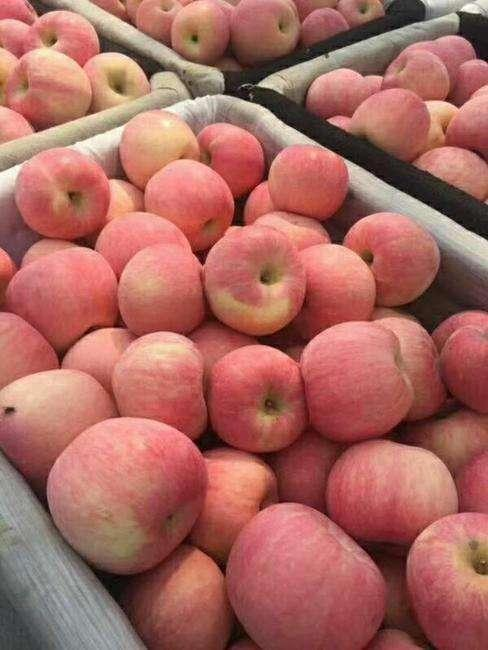apple: (45, 415, 204, 578), (221, 501, 385, 647), (325, 439, 458, 555), (300, 319, 419, 445), (1, 368, 111, 478), (401, 513, 488, 649), (206, 224, 305, 333), (111, 327, 206, 440), (3, 246, 116, 340), (210, 343, 303, 448), (187, 450, 272, 563), (341, 211, 439, 309), (13, 149, 109, 241), (118, 244, 205, 330), (118, 110, 200, 191), (3, 49, 91, 123), (267, 145, 349, 222), (432, 315, 488, 415), (195, 123, 265, 203), (354, 87, 426, 161), (15, 7, 100, 67), (229, 2, 299, 67), (82, 52, 153, 113), (172, 2, 226, 63), (453, 451, 487, 514), (298, 9, 346, 53)
